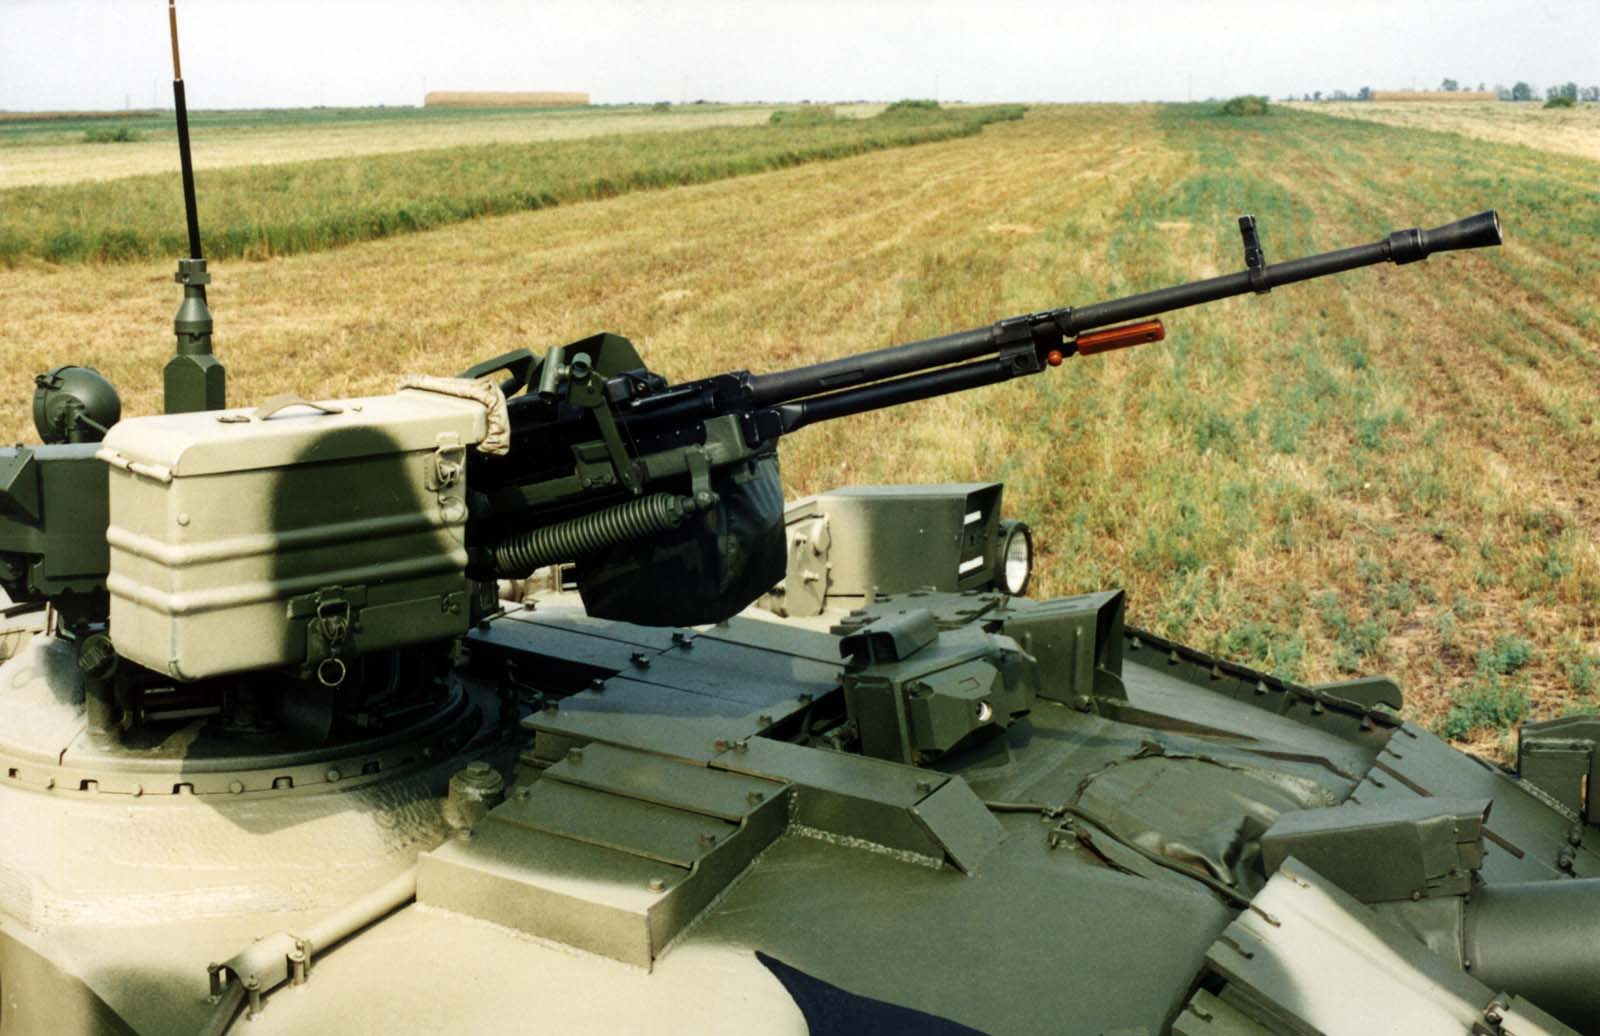rifle: (455, 178, 1518, 556)
